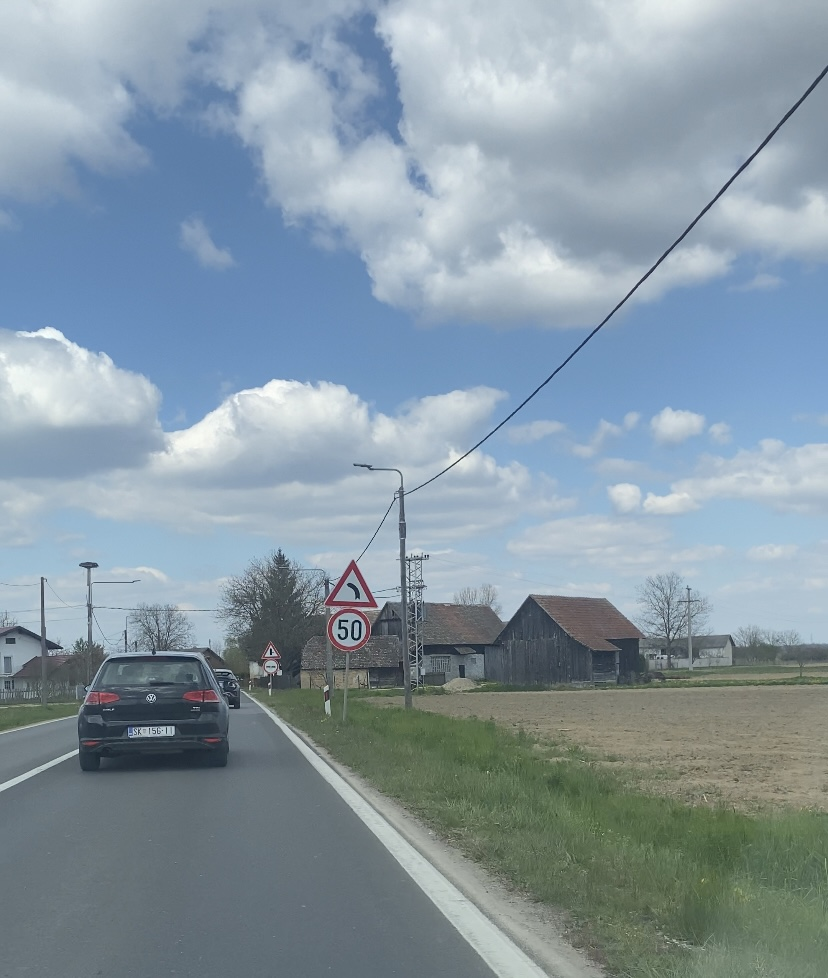Ograničenje brzine 50: (327, 608, 371, 652)
Zabrana pretjecanja: (263, 659, 279, 674)
